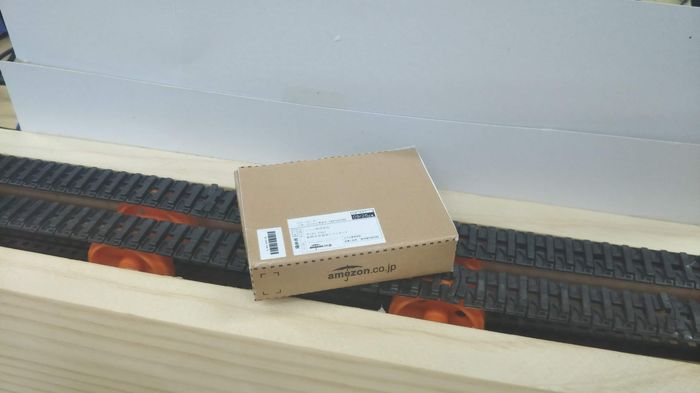box2: (230, 144, 458, 303)
